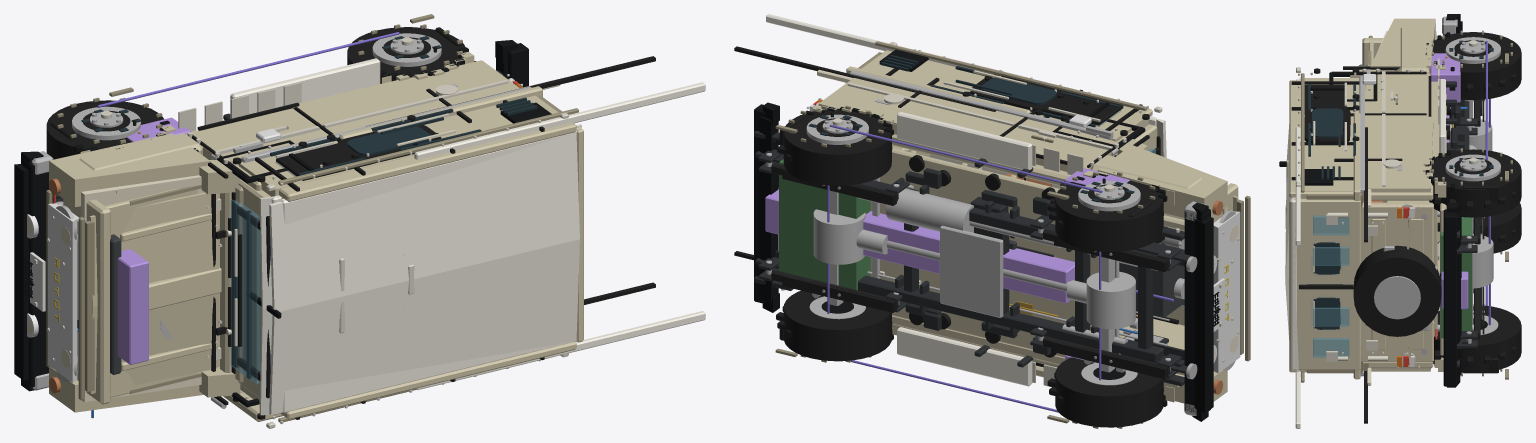
Rendered from j40_full_vehicle_scaffold_rev_c_lhd_review_editable.obj.
3 renders of one model, left to right at view 1: azimuth 30°, elevation 25°; view 2: azimuth 150°, elevation 25°; view 3: azimuth 270°, elevation 25°, orthographic. The views are drawn at different scales.
Parts seen in each view (by area): view 1: white_hardtop_crowned_roof_skin, hood_crowned_closed_skin, white_hardtop_roof, right_rear_quarter_waist_tapered_surface, right_front_fender_sloped_outer_skin, front_grille_inset_rounded_surround_surface, windshield_raked_glass_surface, right_hardtop_side_panel, fan_radiator_clearance_envelope, grille_panel, front_bumper_swept_main_face, right_door_outer_skin_tapered_surface (+37 smaller); view 2: floor_pan, rear_right_tire_tire, rear_underfloor_fuel_tank, rear_left_tire_tire, front_left_tire_tire, front_right_tire_tire, skid_plate_transfer_case, right_rear_quarter_waist_tapered_surface, right_side_step_board, left_frame_rail, front_bumper_swept_main_face, left_side_step_board (+48 smaller); view 3: rear_hardtop_panel, rear_spare_tire, right_rear_quarter_waist_tapered_surface, tailgate_panel, rear_right_tire_tire, front_right_tire_tire, rear_left_tire_tire, rear_bumper, right_hardtop_side_tapered_upper_skin, right_door_outer_skin_tapered_surface, right_front_fender_sloped_outer_skin, rear_spare_wheel_rim (+48 smaller).
Boxes of the visible parts, <box> form: white_hardtop_crowned_roof_skin: <box>269,132,579,414</box>; hood_crowned_closed_skin: <box>89,192,219,393</box>; white_hardtop_roof: <box>280,126,583,412</box>; right_rear_quarter_waist_tapered_surface: <box>293,60,519,133</box>; right_front_fender_sloped_outer_skin: <box>49,133,210,206</box>; front_grille_inset_rounded_surround_surface: <box>48,203,77,382</box>; windshield_raked_glass_surface: <box>230,199,259,384</box>; right_hardtop_side_panel: <box>279,97,576,201</box>; fan_radiator_clearance_envelope: <box>117,249,148,364</box>; grille_panel: <box>63,199,110,404</box>; front_bumper_swept_main_face: <box>14,164,28,380</box>; right_door_outer_skin_tapered_surface: <box>185,108,328,164</box>; floor_pan: <box>870,148,1098,357</box>; rear_right_tire_tire: <box>783,109,891,185</box>; rear_underfloor_fuel_tank: <box>779,159,870,290</box>; rear_left_tire_tire: <box>783,290,891,361</box>; front_left_tire_tire: <box>1055,357,1163,427</box>; front_right_tire_tire: <box>1055,180,1163,251</box>; skid_plate_transfer_case: <box>940,225,1003,317</box>; right_rear_quarter_waist_tapered_surface: <box>818,78,1023,135</box>; right_side_step_board: <box>897,111,1032,169</box>; left_frame_rail: <box>858,275,1163,362</box>; front_bumper_swept_main_face: <box>1194,216,1213,412</box>; left_side_step_board: <box>897,327,1032,386</box>; rear_hardtop_panel: <box>1289,198,1360,369</box>; rear_spare_tire: <box>1353,245,1441,336</box>; right_rear_quarter_waist_tapered_surface: <box>1365,114,1433,192</box>; tailgate_panel: <box>1361,202,1433,362</box>; rear_right_tire_tire: <box>1429,149,1521,217</box>; front_right_tire_tire: <box>1432,32,1521,99</box>; rear_left_tire_tire: <box>1433,305,1521,372</box>; rear_bumper: <box>1443,209,1456,386</box>; right_hardtop_side_tapered_upper_skin: <box>1304,78,1363,199</box>; right_door_outer_skin_tapered_surface: <box>1365,73,1430,114</box>; right_front_fender_sloped_outer_skin: <box>1370,18,1435,73</box>; rear_spare_wheel_rim: <box>1374,276,1420,319</box>.
Bounding box in the file's own units: 4.47 × 1.96 × 1.99.
